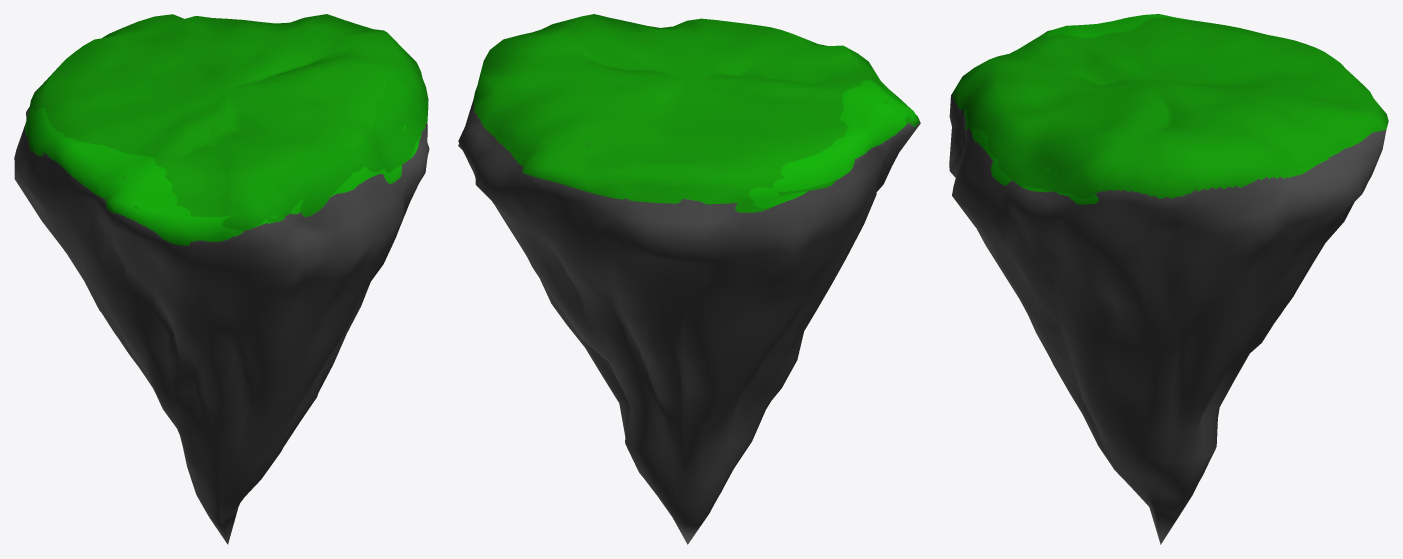
File: ostrov1.fbx
3 renders of one model, left to right at view 1: azimuth 30°, elevation 25°; view 2: azimuth 150°, elevation 25°; view 3: azimuth 270°, elevation 25°, orthographic.
Visible parts, largest first — view 1: Kužel; view 2: Kužel; view 3: Kužel.
Part boxes in pixels (x1,y1,x2,y2): Kužel: (14, 14, 429, 544); Kužel: (458, 14, 920, 544); Kužel: (949, 14, 1388, 544).
Bounding box in the file's own units: 171 × 208 × 175.
Materials: 1 (1 with a texture image).
